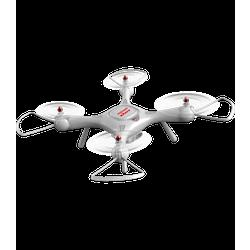drone: (17, 64, 235, 185)
